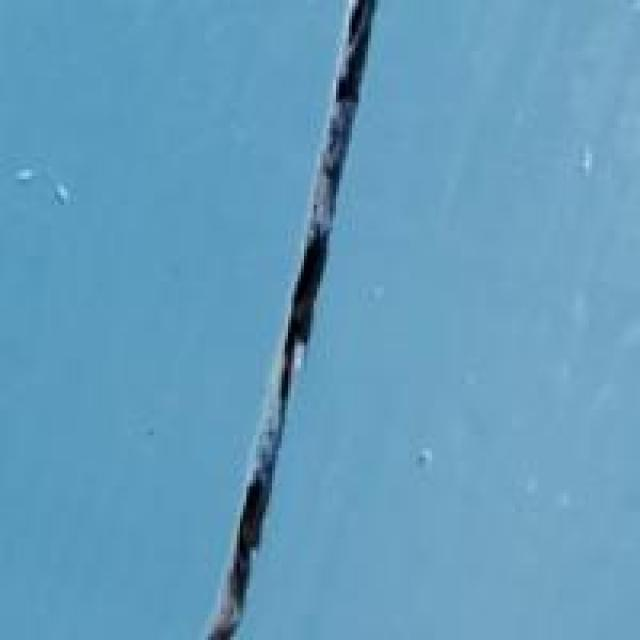Crack: (221, 13, 454, 637)
